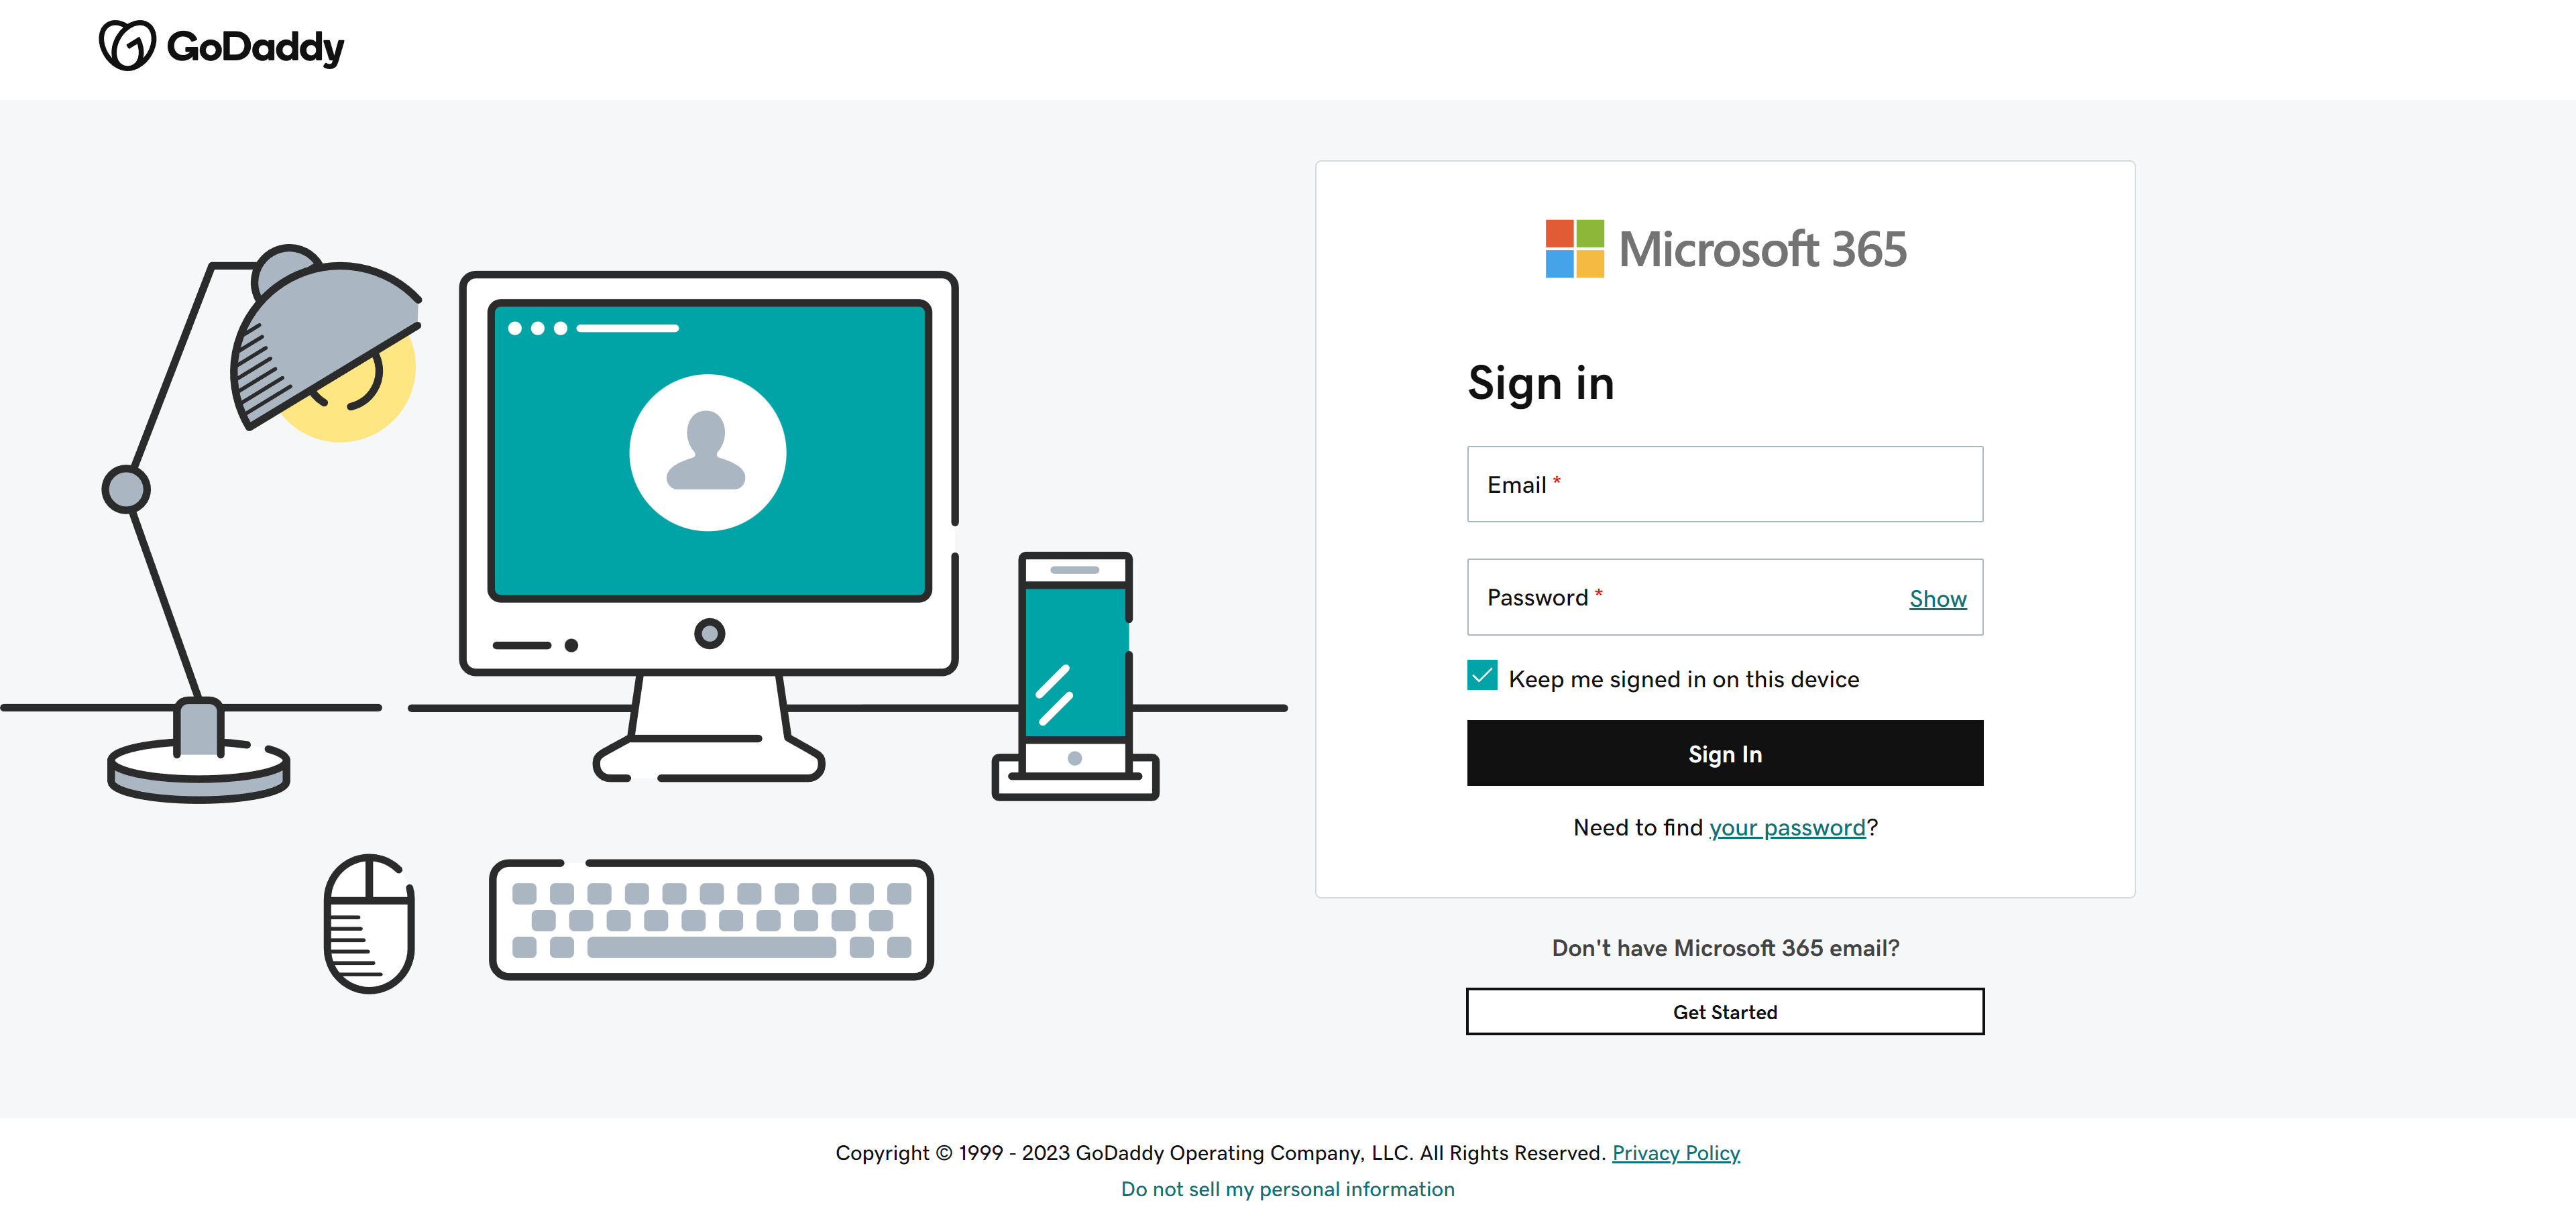login_button: (1469, 720, 1985, 786)
login_form: (1457, 437, 1993, 795)
